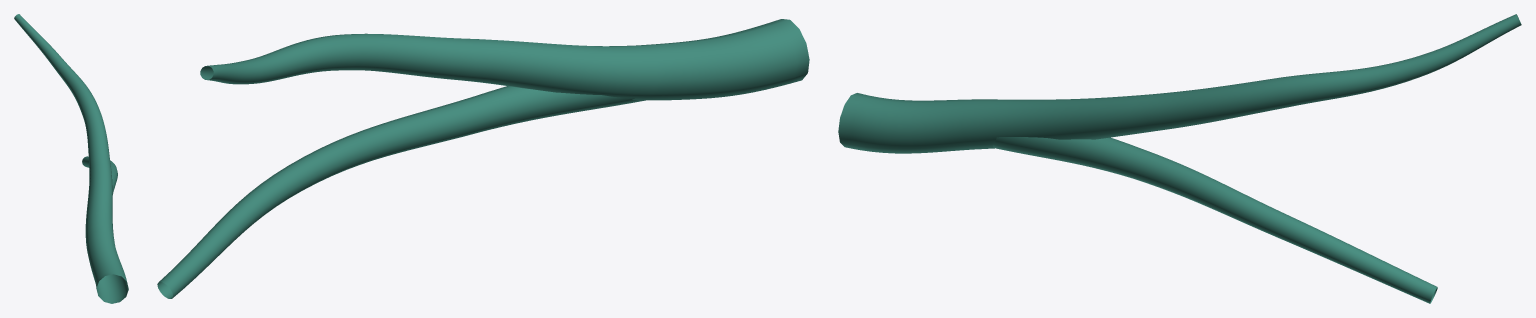
3 views of the same model, side by side, from view 1: azimuth 30°, elevation 25°; view 2: azimuth 150°, elevation 25°; view 3: azimuth 270°, elevation 25° (orthographic). The views are drawn at different scales.
Visible parts, largest first — view 1: 左肺外侧底段支气管（第9段）; view 2: 左肺外侧底段支气管（第9段）; view 3: 左肺外侧底段支气管（第9段）.
Part boxes in pixels (x1=…): 左肺外侧底段支气管（第9段）: x1=14, y1=14, x2=128, y2=303; 左肺外侧底段支气管（第9段）: x1=157, y1=19, x2=809, y2=298; 左肺外侧底段支气管（第9段）: x1=838, y1=14, x2=1521, y2=303.
Bounding box in the file's own units: 0.0759 × 0.0656 × 0.1621.
